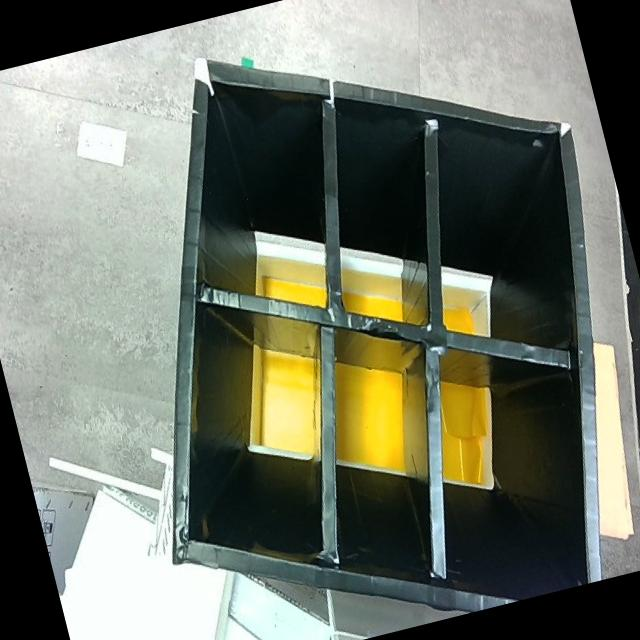box: (46, 0, 640, 640)
